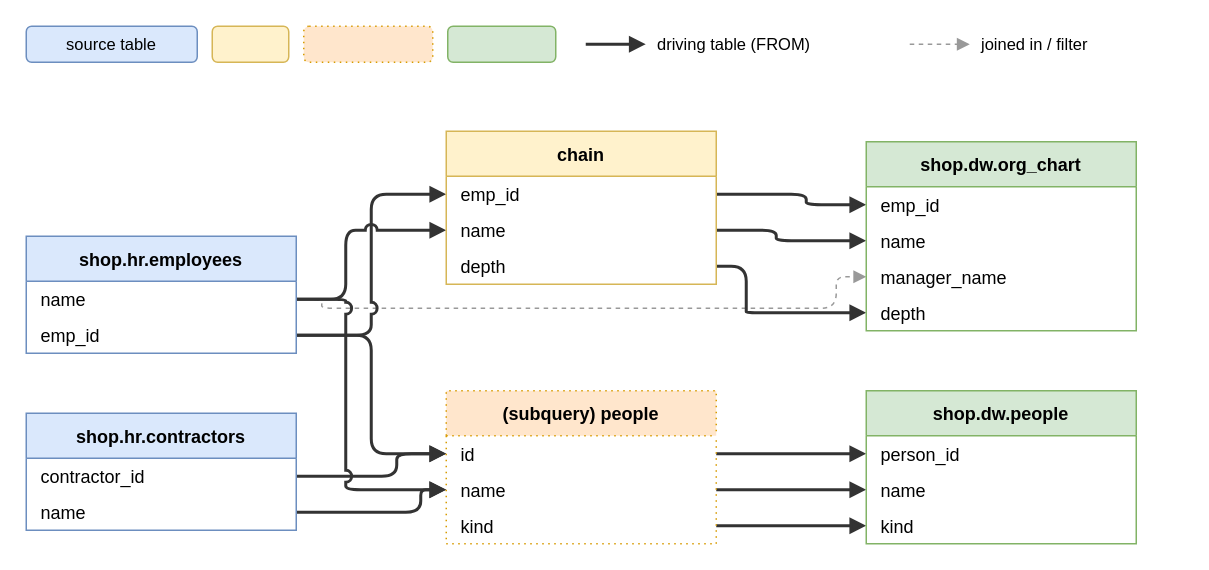
This 1209x570 diagram has some shape labels left out. The shapes that lost their labels are listed below. From the top down, each one's centre as x and y in pixels, then its label:
the point at 250,43: CTE
the point at 367,43: subquery
the point at 501,43: target
